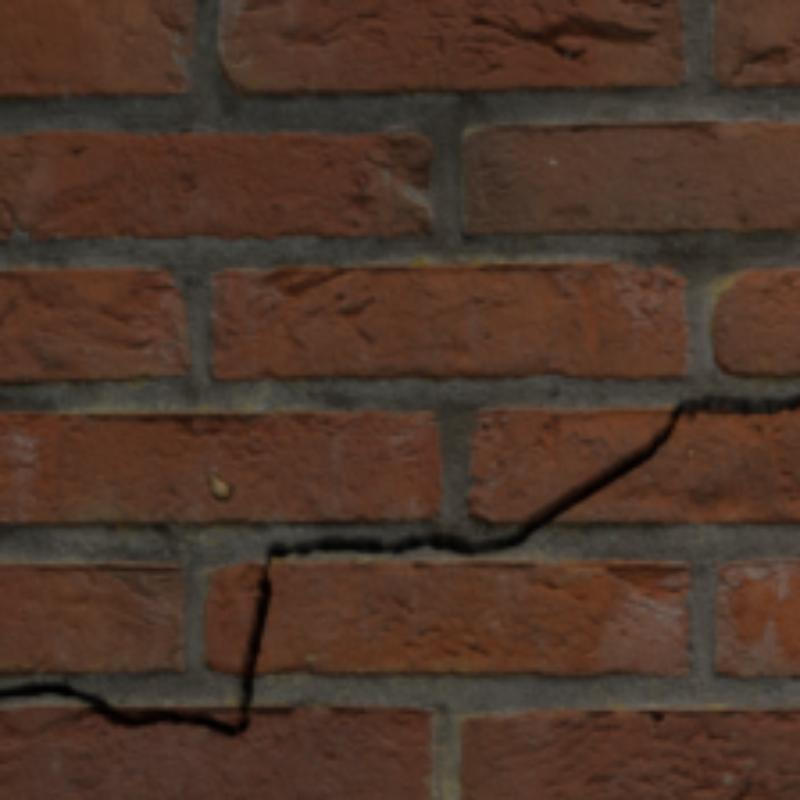pothole: (0, 396, 796, 732)
